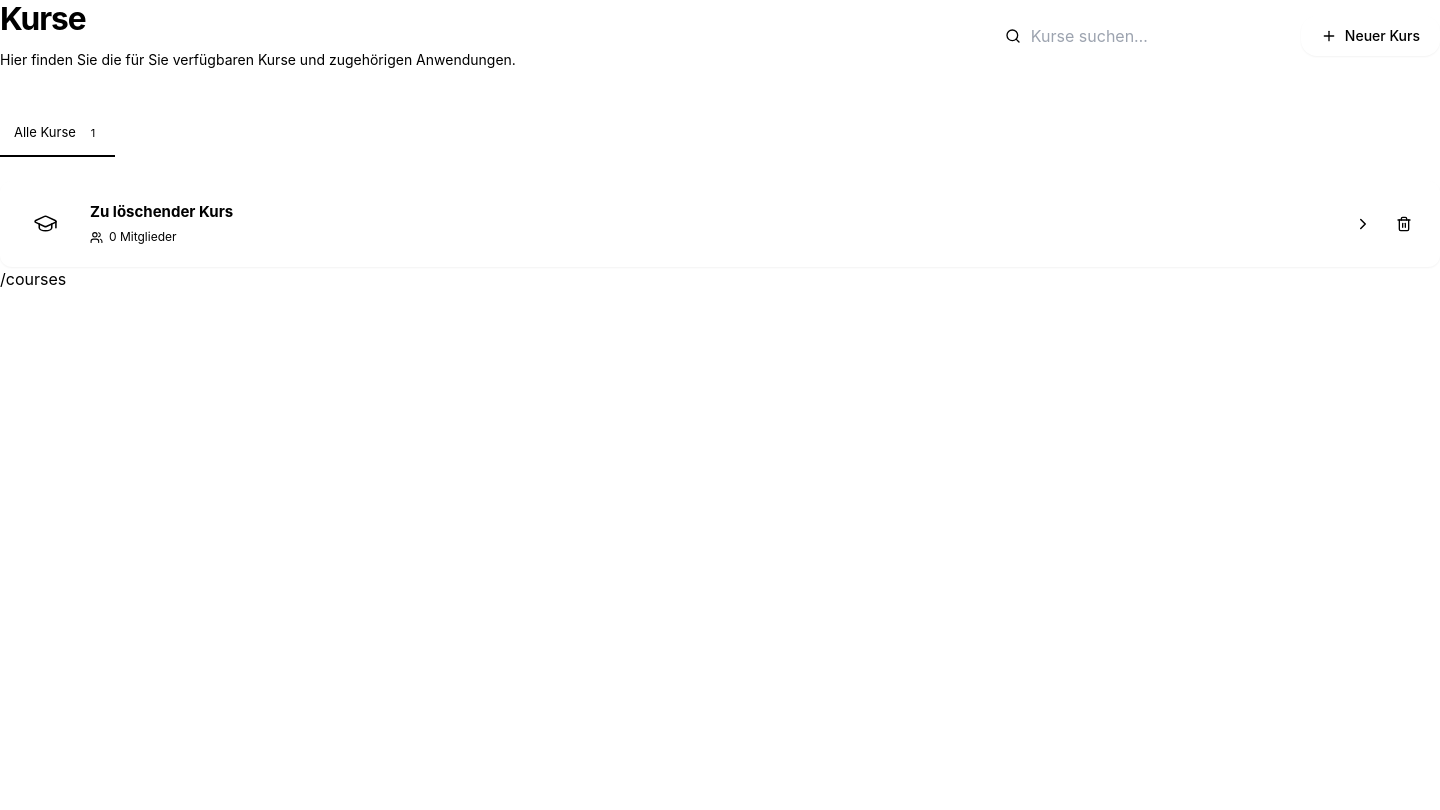
Test: CoursesView › löscht einen Kurs nach Bestätigung
This screenshot has width=1440, height=810.
Expected: the text "Zu löschender Kurs" is shown, x1=90 y1=201 x2=233 y2=223
Click the button named "Löschen" at x=1404, y=224, box x1=1388 y1=208 x2=1420 y2=240
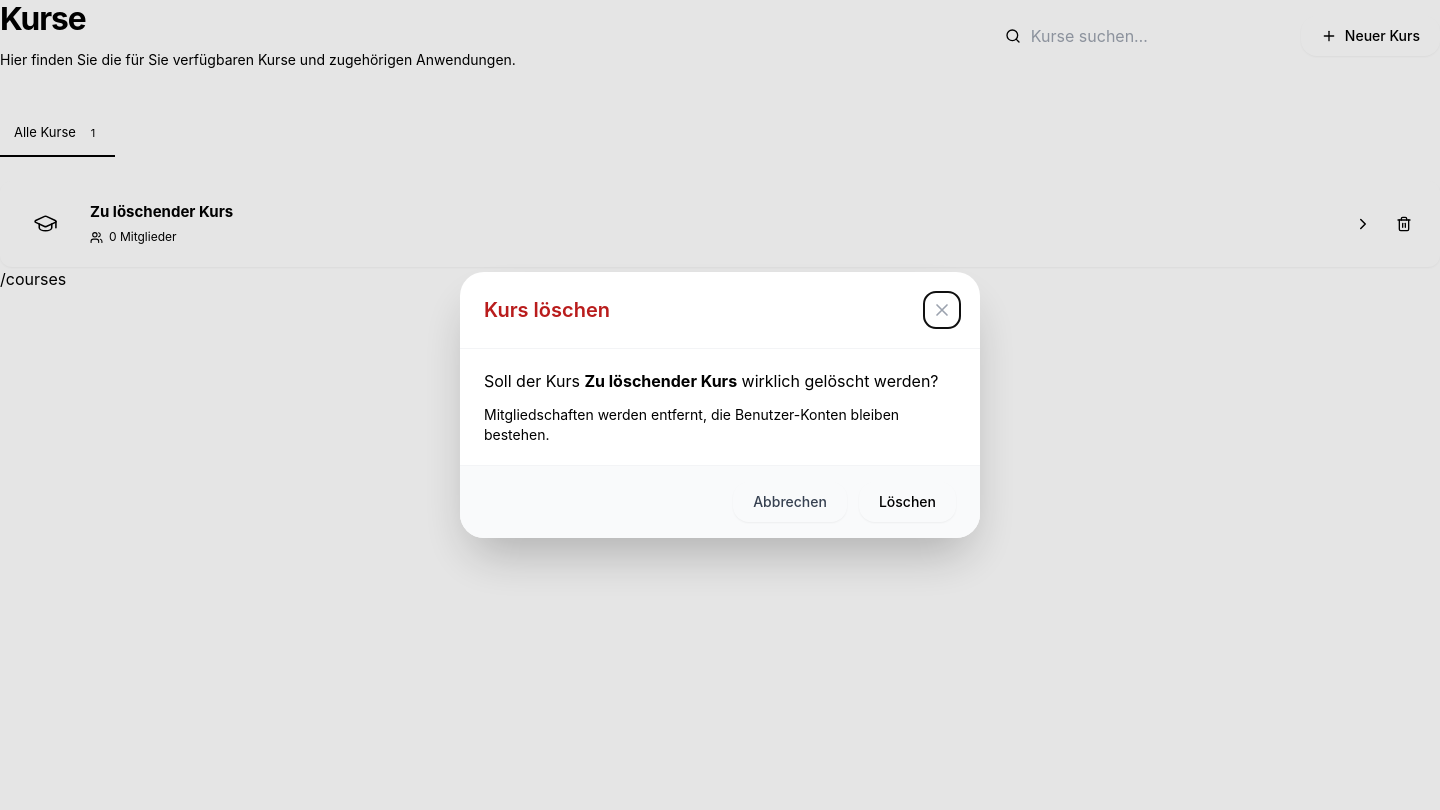
Expected: the text "Zu löschender Kurs" is shown, x1=584 y1=371 x2=737 y2=391
Click the button "Löschen" at x=907, y=502, box x1=859 y1=482 x2=956 y2=522
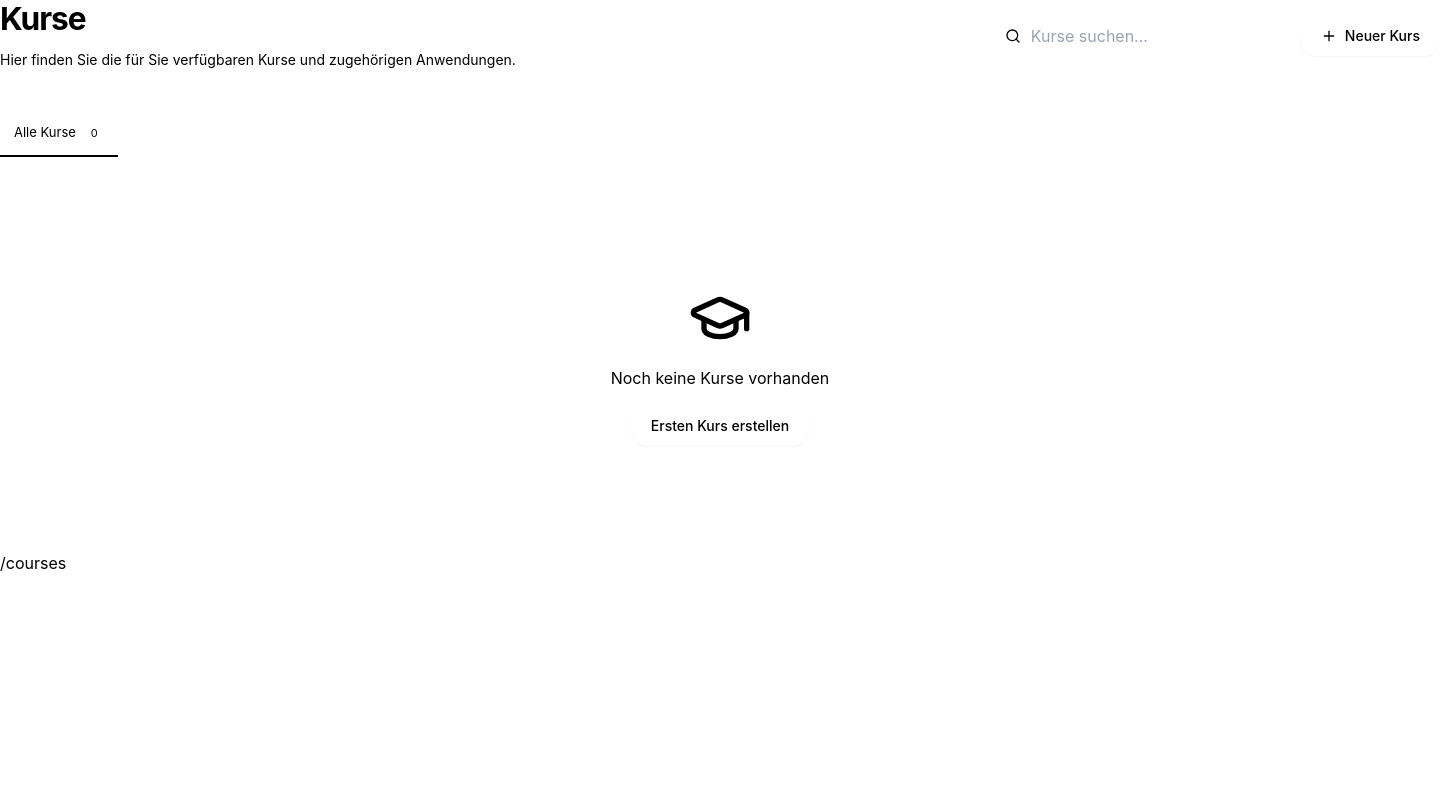
Expected: the link "Zu löschender Kurs" is gone
